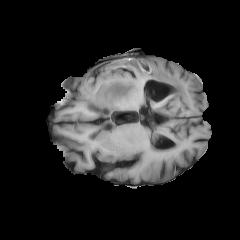glioma: (85, 56, 188, 106)
